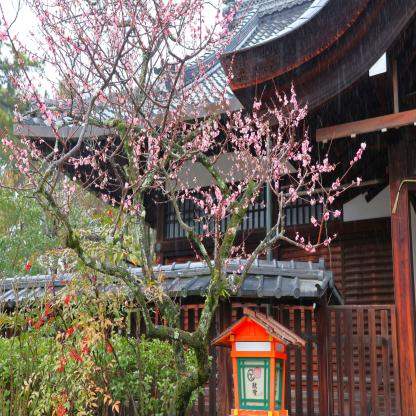Ume: (0, 0, 368, 294)
